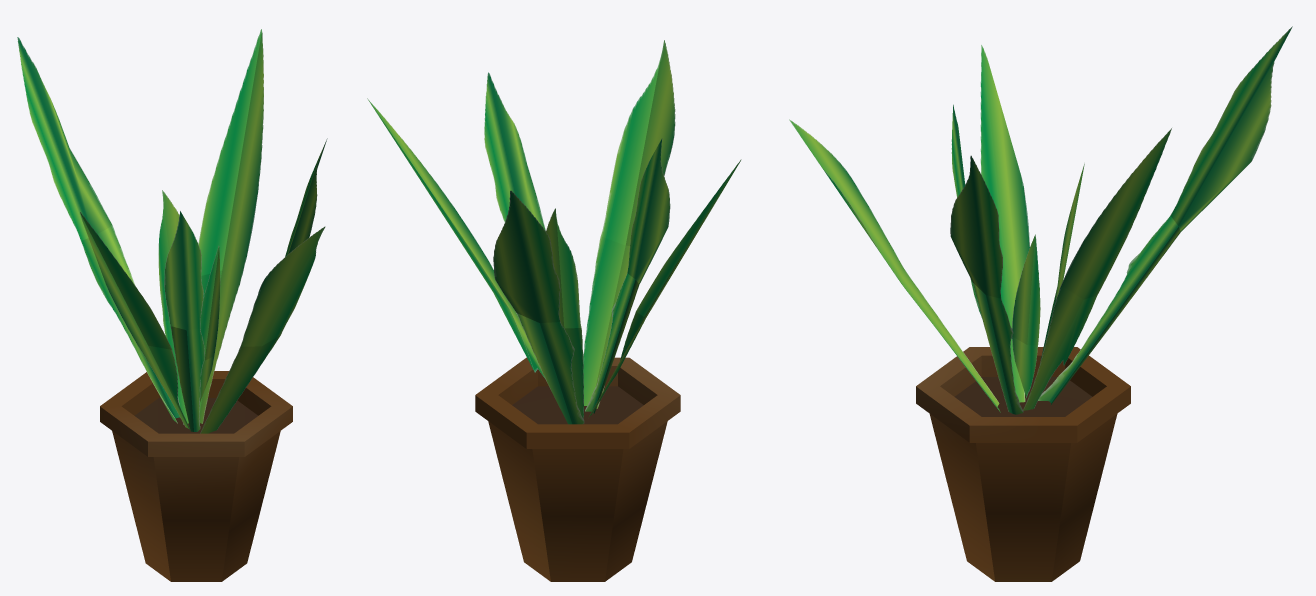
The model's file is SM_PlantPot_2(Fix).fbx.
3 views of the same model, side by side, from view 1: azimuth 30°, elevation 25°; view 2: azimuth 150°, elevation 25°; view 3: azimuth 270°, elevation 25° (orthographic). The views are drawn at different scales.
Parts seen in each view (by area): view 1: Plantpot2_Mash; view 2: Plantpot2_Mash; view 3: Plantpot2_Mash.
Boxes of the visible parts, x1,y1,x2,y2 form: Plantpot2_Mash: (17,29,327,581); Plantpot2_Mash: (367,40,741,581); Plantpot2_Mash: (789,26,1292,581).
Bounding box in the file's own units: 0.3419 × 0.5523 × 0.508.
